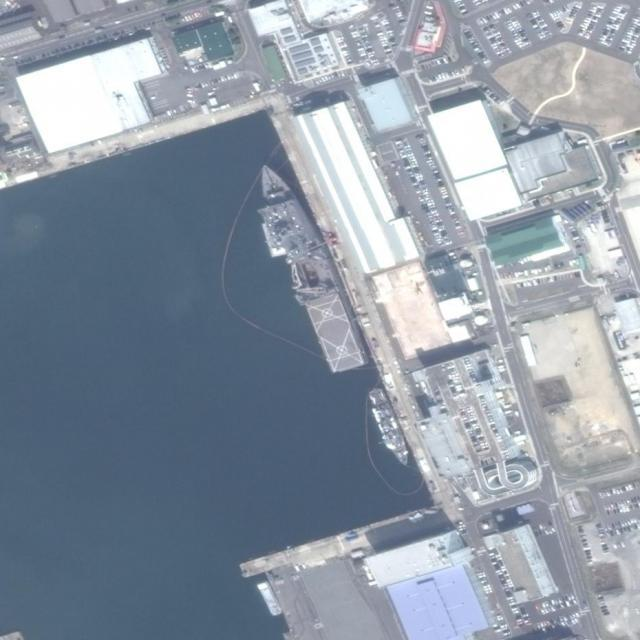Landing: (248, 154, 370, 378)
Other Warship: (363, 386, 416, 471)
